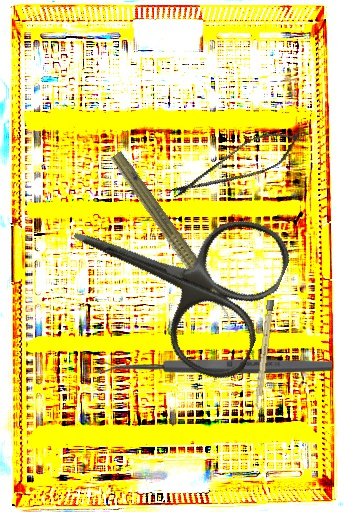Handpiece: (103, 148, 247, 339)
Iris Scissors: (43, 158, 299, 390)
Micro Scissor: (162, 118, 311, 213)
Scalpel Handle: (253, 299, 275, 410)
Surgical Spoon: (96, 358, 332, 374)
